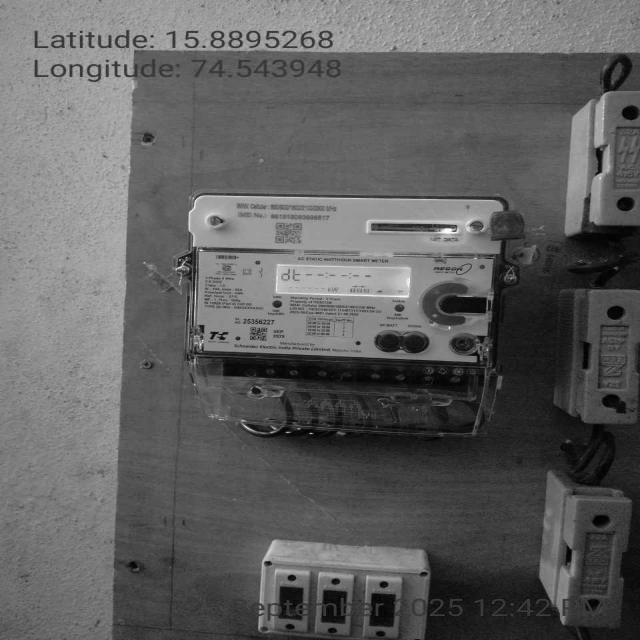meter: (191, 195, 492, 362)
